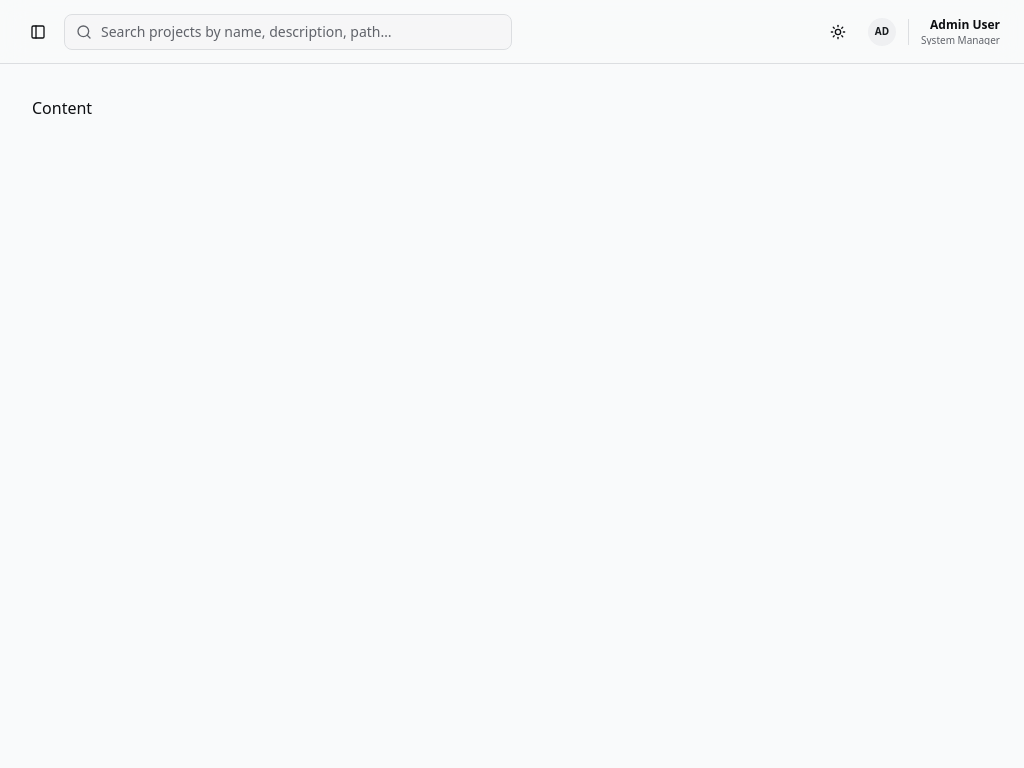
AppShell › switches to a slide-in drawer below the navigation breakpoint
The width and height of the screenshot is (1024, 768).
Click the button named "toggle sidebar".
click(38, 32)  # box [20,14,56,50]
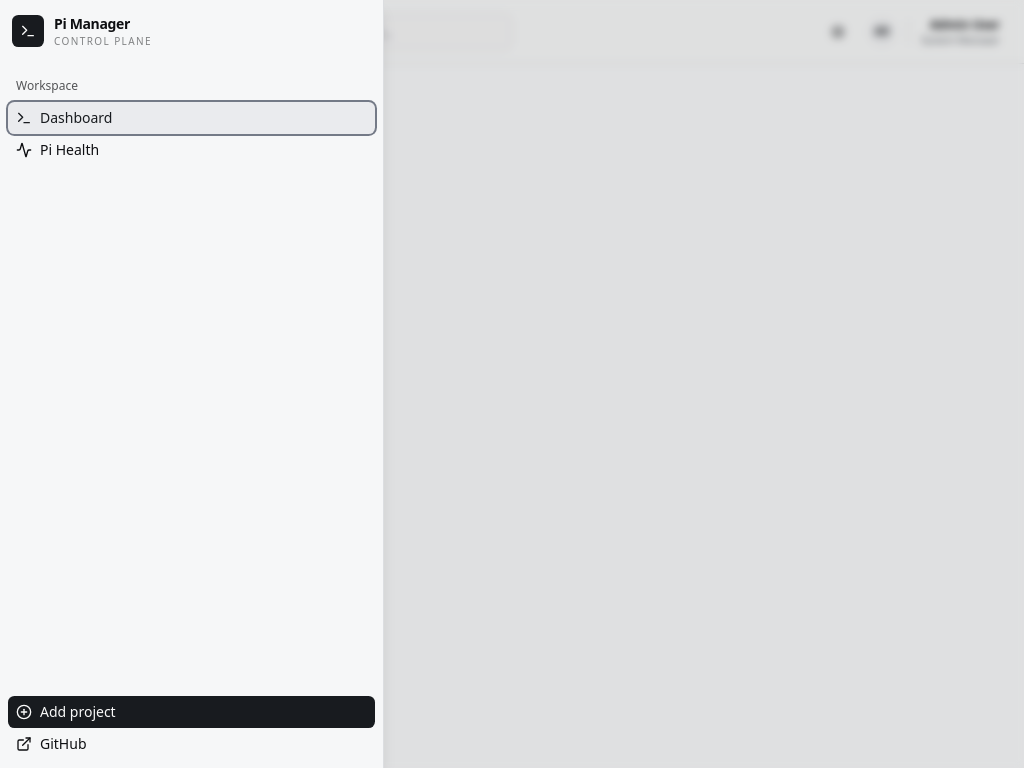
Check: the dialog named "Sidebar" is shown, box [0,0,384,767]
